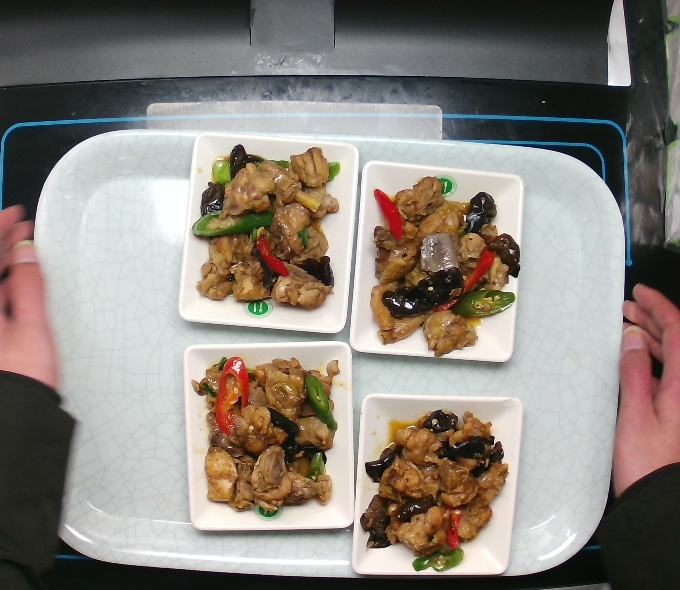wcq-LaZiJi: (366, 171, 523, 359), (188, 141, 344, 312), (358, 404, 512, 572), (190, 354, 341, 521)
